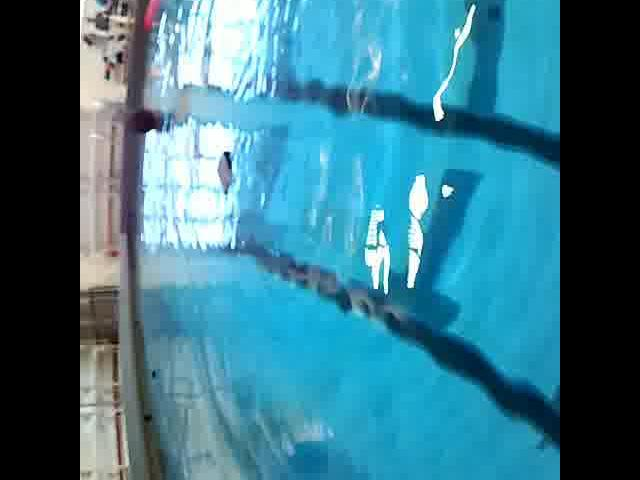CamMount: (214, 147, 242, 195)
